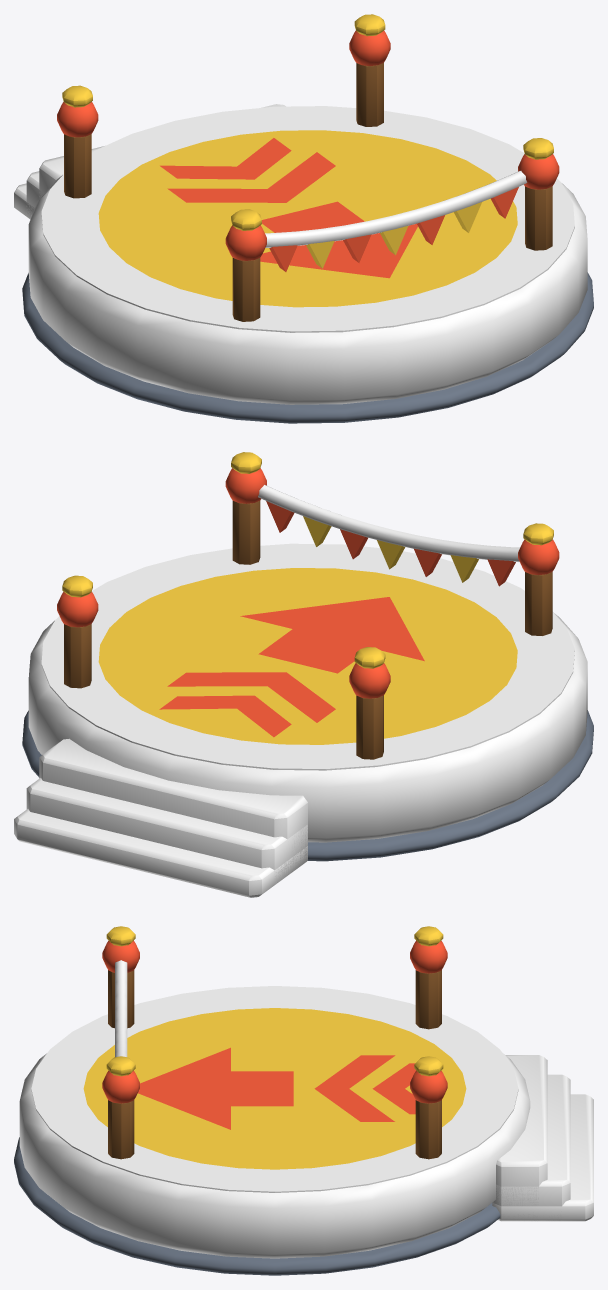
File: Plot_ThrowStage.glb
3 renders of one model, top to bottom at view 1: azimuth 30°, elevation 25°; view 2: azimuth 150°, elevation 25°; view 3: azimuth 270°, elevation 25°, orthographic. The views are drawn at different scales.
Visible parts, largest first — view 1: Rim_FFFFFF, Pad_FFD23F, Arrow_FF5A36, BaseLip_6B7686, Post_8A5A2B; view 2: Rim_FFFFFF, Pad_FFD23F, Arrow_FF5A36, Post_8A5A2B, BaseLip_6B7686; view 3: Rim_FFFFFF, Pad_FFD23F, Arrow_FF5A36, BaseLip_6B7686, Post_8A5A2B.
Part boxes in pixels (box(x1,y1,x2,y2)): Rim_FFFFFF: box(14, 104, 587, 404); Pad_FFD23F: box(62, 14, 553, 307); Arrow_FF5A36: box(57, 30, 559, 278); BaseLip_6B7686: box(22, 272, 593, 423); Post_8A5A2B: box(64, 63, 552, 321); Rim_FFFFFF: box(14, 485, 587, 897); Pad_FFD23F: box(62, 452, 553, 744); Arrow_FF5A36: box(57, 468, 559, 737); Post_8A5A2B: box(64, 501, 552, 759); BaseLip_6B7686: box(22, 710, 593, 861); Rim_FFFFFF: box(19, 960, 593, 1258); Pad_FFD23F: box(83, 926, 466, 1169); Arrow_FF5A36: box(102, 940, 447, 1129); BaseLip_6B7686: box(14, 1137, 500, 1275); Post_8A5A2B: box(108, 970, 441, 1159).
Bounding box in the file's own units: 18 × 6.55 × 20.
